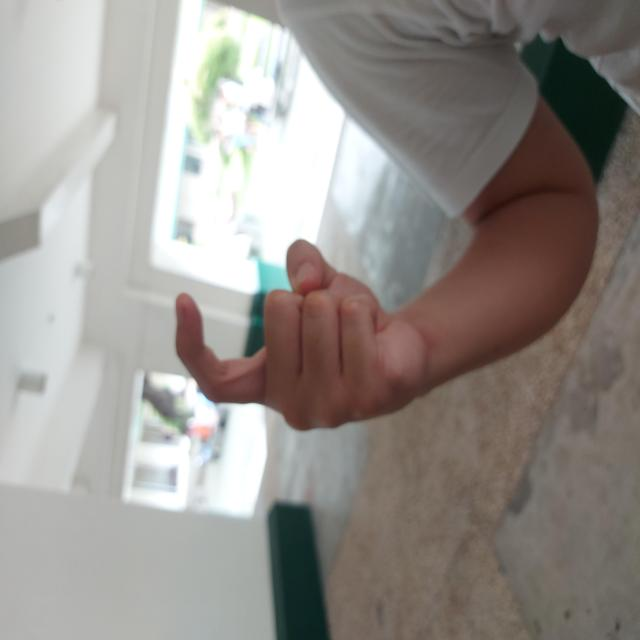X: (207, 172, 404, 429)
